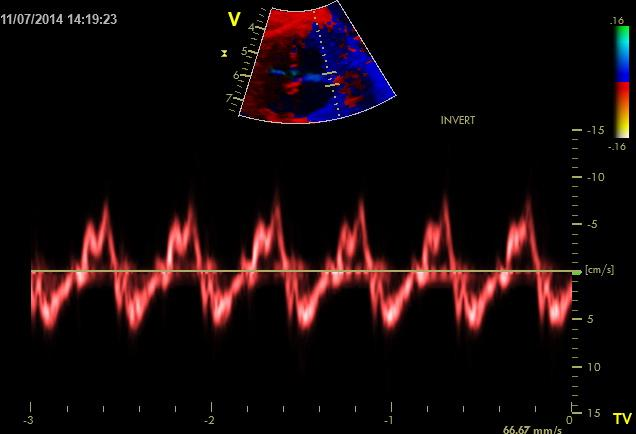Ultrasound-Waves: (32, 165, 571, 400)
